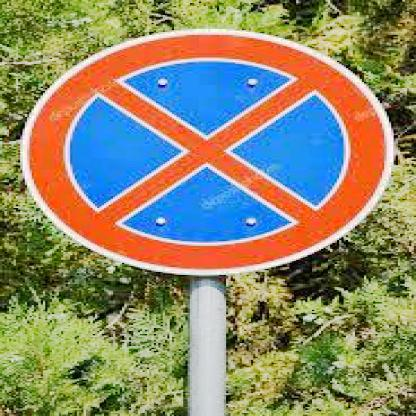No stopping: (36, 22, 386, 277)
